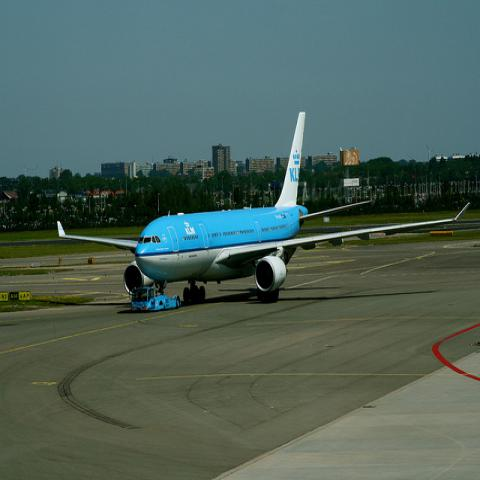truck: (131, 288, 181, 312)
